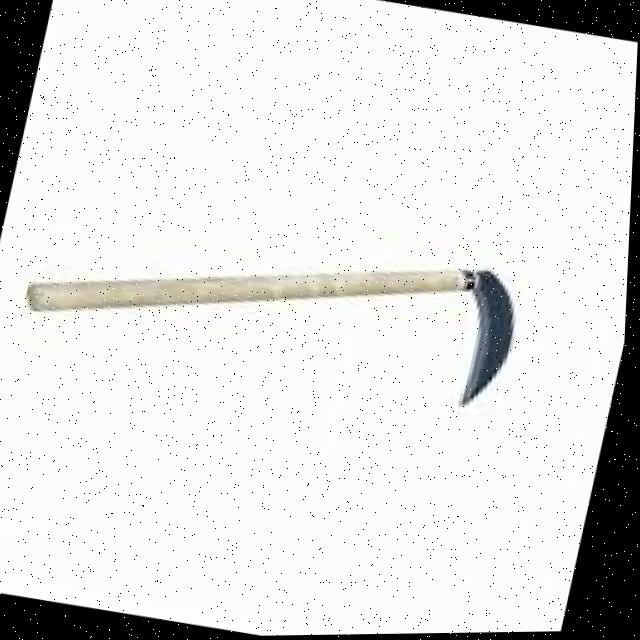sickle: (14, 185, 591, 456)
